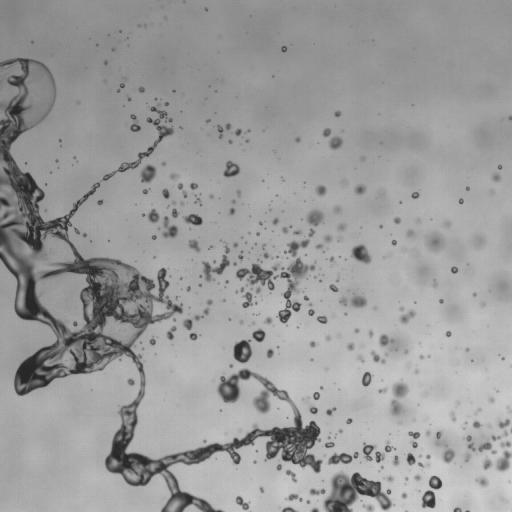droplet: (236, 228, 315, 324), (482, 441, 511, 471), (363, 441, 394, 462), (233, 339, 252, 363), (237, 286, 256, 308), (426, 232, 445, 252), (351, 244, 371, 263), (162, 216, 177, 237), (140, 164, 156, 183), (223, 161, 240, 177), (306, 210, 323, 226), (183, 214, 202, 225), (399, 310, 415, 323), (408, 431, 420, 448), (442, 447, 454, 463), (146, 209, 159, 223), (236, 496, 249, 510), (130, 114, 140, 131), (329, 136, 342, 149), (252, 329, 265, 342), (379, 334, 393, 346), (351, 296, 366, 307), (362, 371, 372, 386), (473, 236, 484, 248), (188, 240, 200, 251), (166, 326, 176, 339), (475, 476, 488, 486), (315, 185, 326, 196), (406, 453, 416, 465), (354, 184, 365, 194), (183, 319, 193, 330), (326, 407, 336, 415), (363, 504, 374, 511), (472, 420, 481, 428), (162, 188, 169, 198), (317, 316, 327, 323), (392, 455, 399, 465), (492, 173, 500, 181), (329, 284, 338, 291), (189, 333, 198, 340), (266, 349, 273, 358), (464, 453, 471, 462), (324, 441, 334, 447), (323, 128, 330, 136), (338, 223, 345, 231), (406, 230, 414, 237), (324, 235, 332, 242), (347, 342, 354, 350), (309, 406, 317, 413), (172, 208, 178, 217), (378, 387, 387, 393), (265, 317, 272, 324), (357, 355, 364, 362), (127, 378, 134, 385), (411, 192, 419, 198), (149, 337, 155, 345), (450, 411, 455, 420), (235, 128, 241, 135), (190, 183, 197, 189), (229, 208, 235, 215), (451, 266, 457, 273), (340, 298, 346, 305), (313, 392, 319, 399), (238, 252, 243, 260), (195, 198, 201, 204), (334, 206, 340, 212), (394, 217, 400, 223), (272, 218, 278, 224), (444, 221, 450, 227), (282, 227, 288, 233), (263, 252, 269, 258), (310, 341, 316, 347), (401, 492, 407, 498), (170, 174, 177, 179), (194, 315, 201, 320), (386, 476, 393, 481), (453, 507, 461, 511), (138, 87, 144, 92), (334, 111, 340, 116), (316, 244, 322, 249), (329, 256, 334, 262), (255, 287, 261, 292), (445, 331, 451, 336), (488, 397, 494, 402), (346, 418, 352, 423), (276, 464, 281, 470), (414, 475, 420, 480), (294, 230, 301, 234), (281, 46, 286, 51), (295, 137, 300, 142), (74, 228, 79, 233), (325, 335, 330, 340), (475, 408, 480, 413), (425, 430, 430, 435), (226, 123, 230, 129), (142, 189, 148, 193), (433, 281, 437, 287), (369, 331, 373, 337), (236, 191, 240, 196), (459, 198, 463, 203), (97, 200, 102, 204), (392, 240, 396, 245), (233, 242, 237, 247), (304, 295, 308, 300), (354, 328, 359, 332), (507, 407, 511, 412), (426, 454, 430, 459), (120, 83, 124, 87), (209, 194, 213, 198), (152, 235, 156, 239), (439, 299, 443, 303), (419, 355, 423, 359), (337, 238, 341, 241), (262, 244, 265, 248), (187, 287, 190, 291), (400, 307, 403, 311), (260, 487, 263, 491), (104, 61, 107, 64), (128, 97, 131, 100), (165, 102, 168, 105), (228, 140, 231, 143), (498, 165, 501, 168), (83, 233, 86, 236), (473, 293, 476, 296), (415, 370, 418, 373), (380, 466, 383, 469), (405, 477, 408, 480), (306, 500, 309, 503), (509, 116, 511, 120), (207, 119, 209, 122), (246, 139, 248, 142), (162, 162, 164, 165), (466, 187, 469, 189), (172, 201, 175, 203), (259, 222, 262, 224), (379, 225, 382, 227), (209, 246, 212, 248), (240, 321, 243, 323), (466, 348, 468, 351), (404, 350, 407, 352), (230, 364, 232, 367), (339, 430, 342, 432), (254, 460, 256, 463), (205, 8, 207, 10), (117, 89, 119, 91), (181, 202, 183, 204), (337, 278, 339, 280), (501, 357, 503, 359), (457, 401, 459, 403), (488, 424, 490, 426)
ligament: (0, 61, 319, 511), (103, 106, 173, 180), (322, 471, 393, 511), (465, 419, 510, 454), (199, 245, 229, 281), (421, 475, 441, 508), (391, 380, 408, 415), (326, 452, 359, 465), (371, 350, 385, 363), (203, 299, 212, 315), (285, 469, 296, 482), (178, 183, 187, 197), (285, 493, 302, 500), (309, 488, 325, 495), (435, 431, 442, 445), (281, 506, 297, 511), (308, 302, 314, 315), (217, 125, 223, 137), (418, 462, 429, 468), (310, 507, 319, 511), (0, 78, 3, 86), (510, 428, 511, 432), (466, 510, 469, 511)
